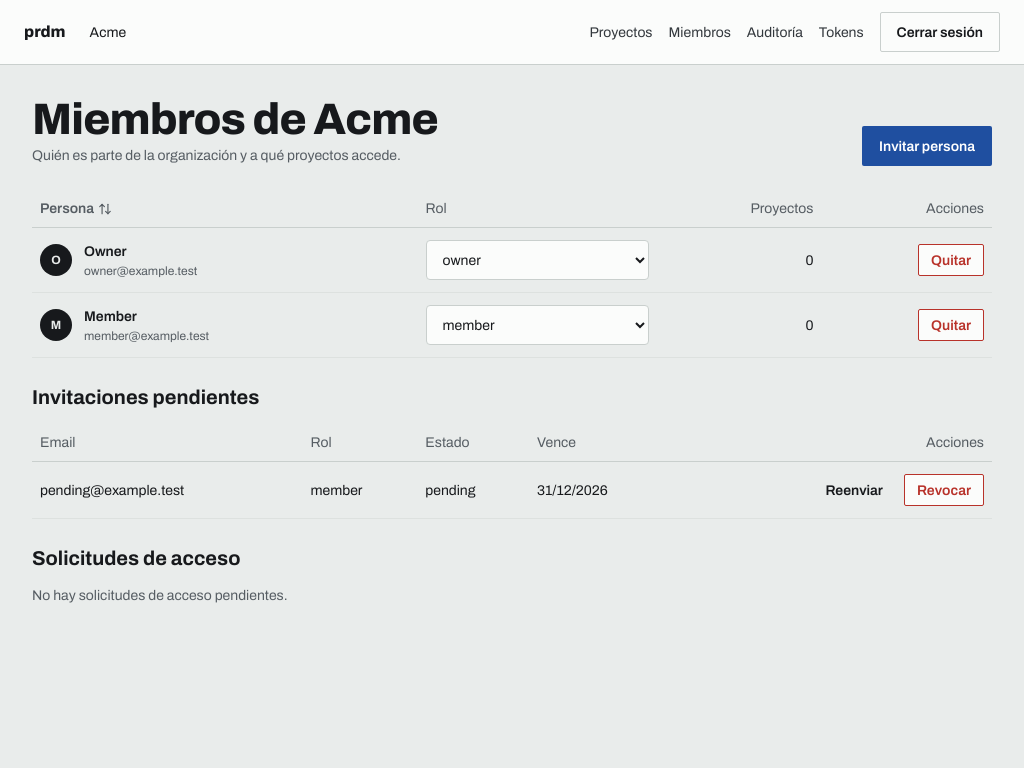
it: OrgMembersSettings › resends a pending invitation and shows a confirmation
This screenshot has width=1024, height=768.
What coordinates should you click on to do the following:
click the button "Reenviar"
I would click on:
 (854, 490)
Its box is [812, 474, 896, 506].
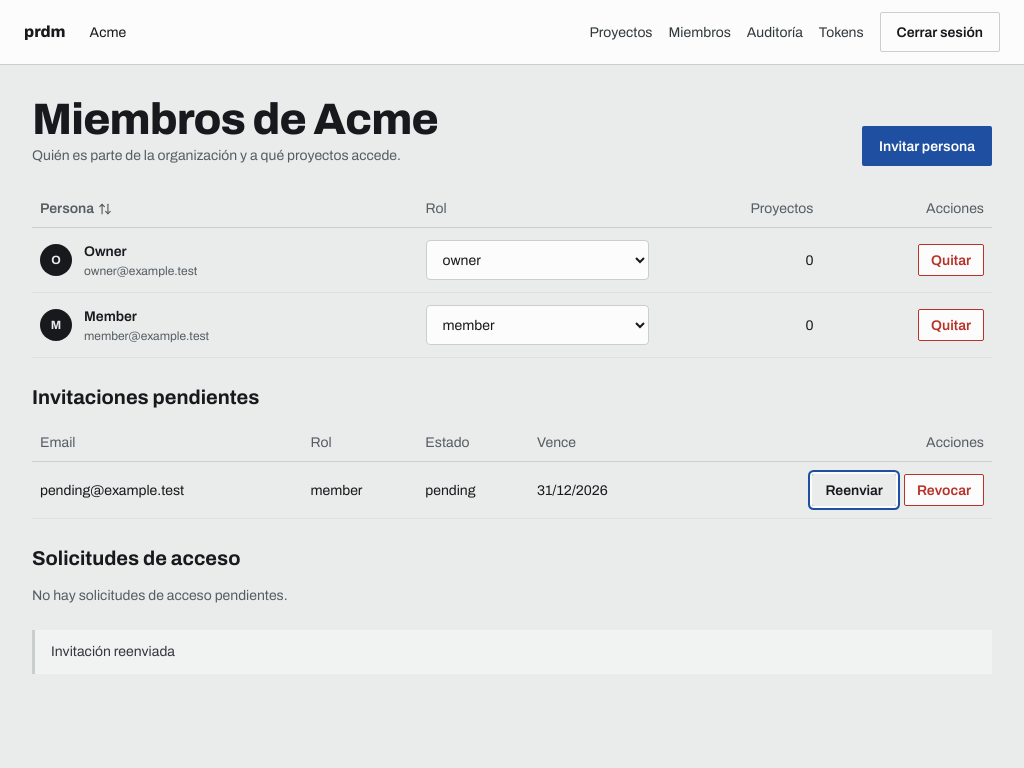
Now the text "Invitación reenviada" is shown, box [32, 630, 992, 674]
